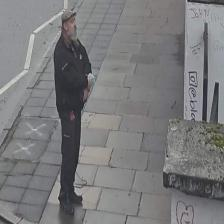person: (53, 9, 91, 213)
